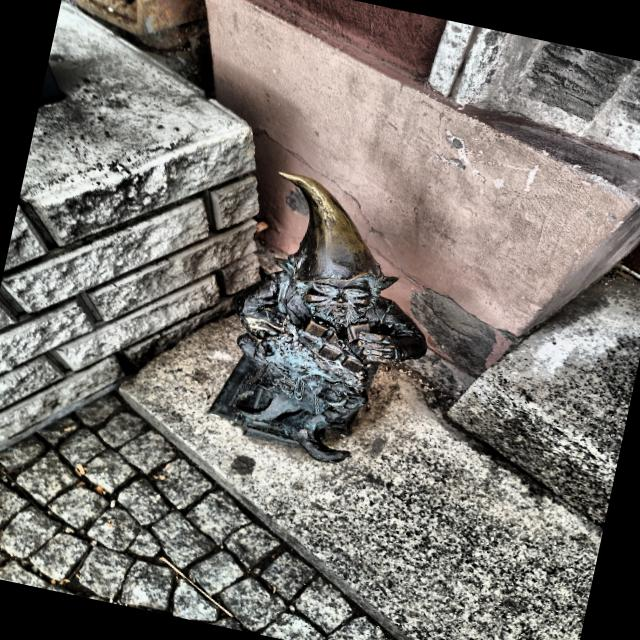Wedelek: (209, 172, 426, 462)
